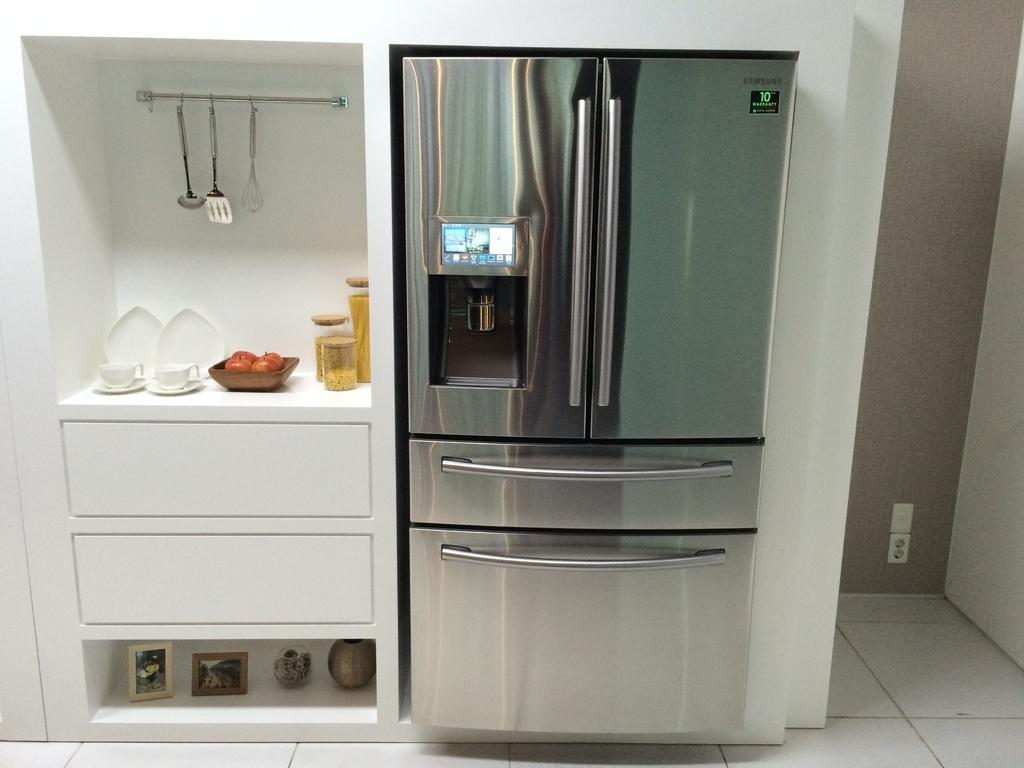cabinet_door: (60, 424, 369, 518), (72, 536, 376, 622)
handle: (436, 447, 732, 490), (436, 538, 726, 574), (562, 93, 588, 414), (604, 94, 622, 409), (588, 410, 590, 412)
